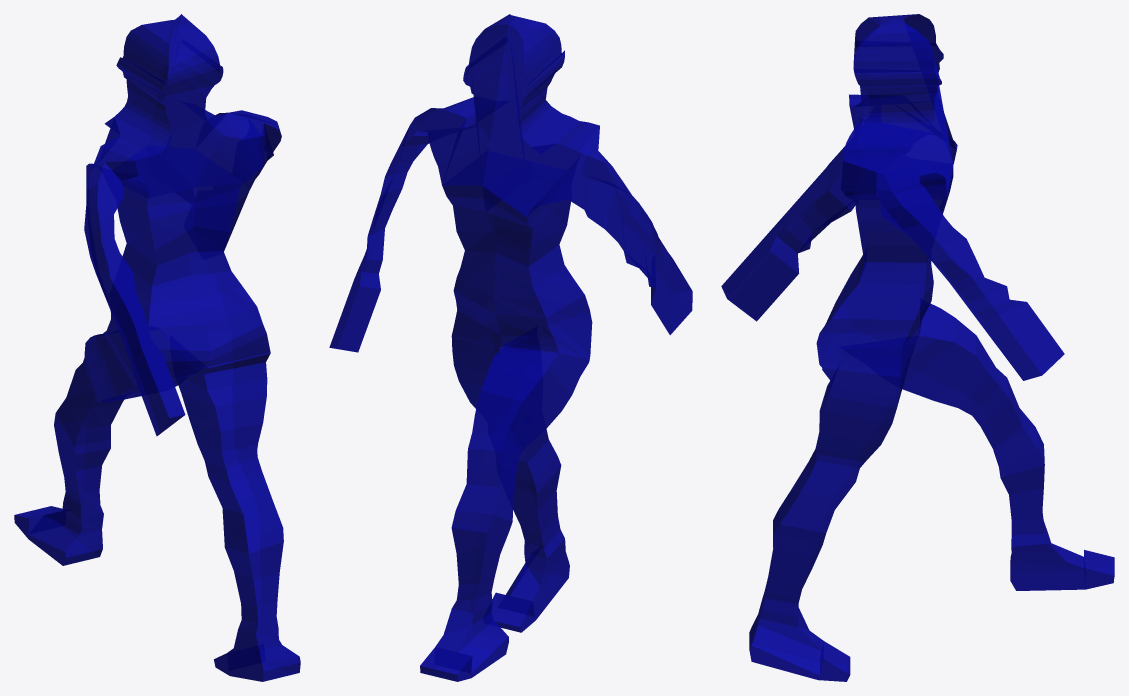
Rendered from woman_000017.obj.
3 views of the same model, side by side, from view 1: azimuth 30°, elevation 25°; view 2: azimuth 150°, elevation 25°; view 3: azimuth 270°, elevation 25° (orthographic).
Visible parts, largest first — view 1: Cube_Cube.001; view 2: Cube_Cube.001; view 3: Cube_Cube.001.
Boxes of the visible parts, x1=… form: Cube_Cube.001: x1=14, y1=14, x2=300, y2=681; Cube_Cube.001: x1=329, y1=14, x2=692, y2=681; Cube_Cube.001: x1=721, y1=14, x2=1114, y2=681.
Size of the model in its own units: 3.6 by 9.98 by 5.58.
